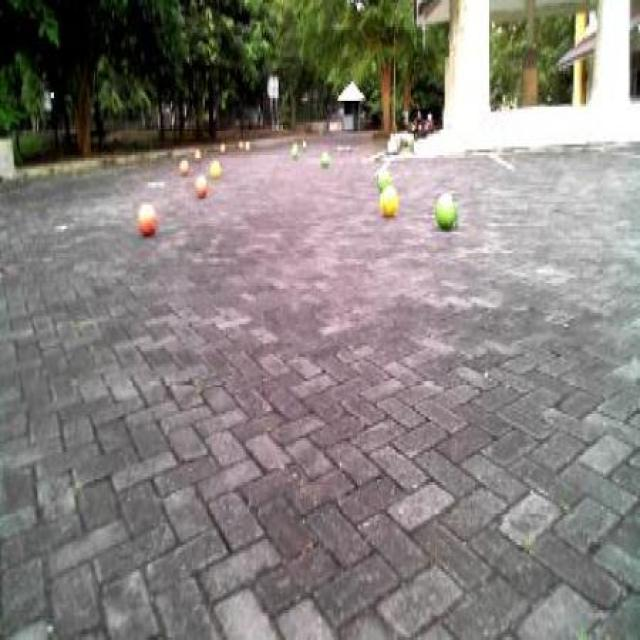buoy: (432, 185, 460, 232), (378, 180, 400, 220), (136, 198, 156, 234), (193, 170, 207, 203), (376, 168, 391, 189)
